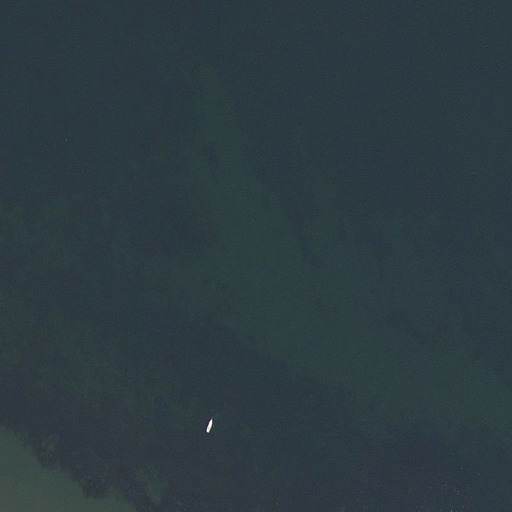ship: (205, 418, 215, 435)
